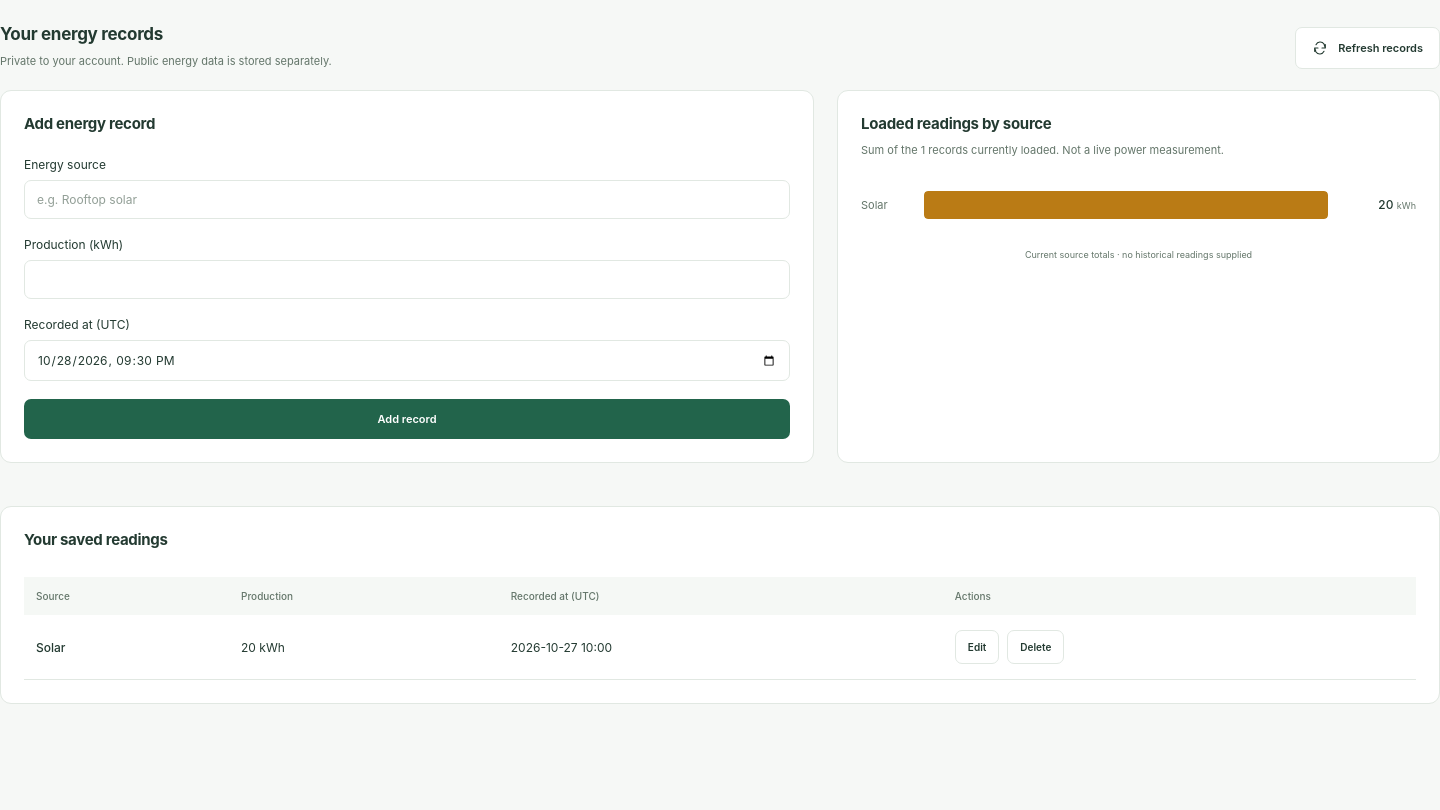
Test: private energy records › loads, creates, edits and deletes records with access tokens and no ownership fields
The width and height of the screenshot is (1440, 810).
Expected: the column heading "Solar" is shown, [24, 615, 229, 680]
Type "Wind" into the field labelled "Energy source" at [407, 200], box [24, 180, 790, 219]
Type "42" into the number field labelled "Production (kWh)" at [407, 280], box [24, 260, 790, 299]
Replace the text in the field labelled "Recorded at (UTC)" with "2026-10-27T10:00" at [407, 361], box [24, 340, 790, 381]
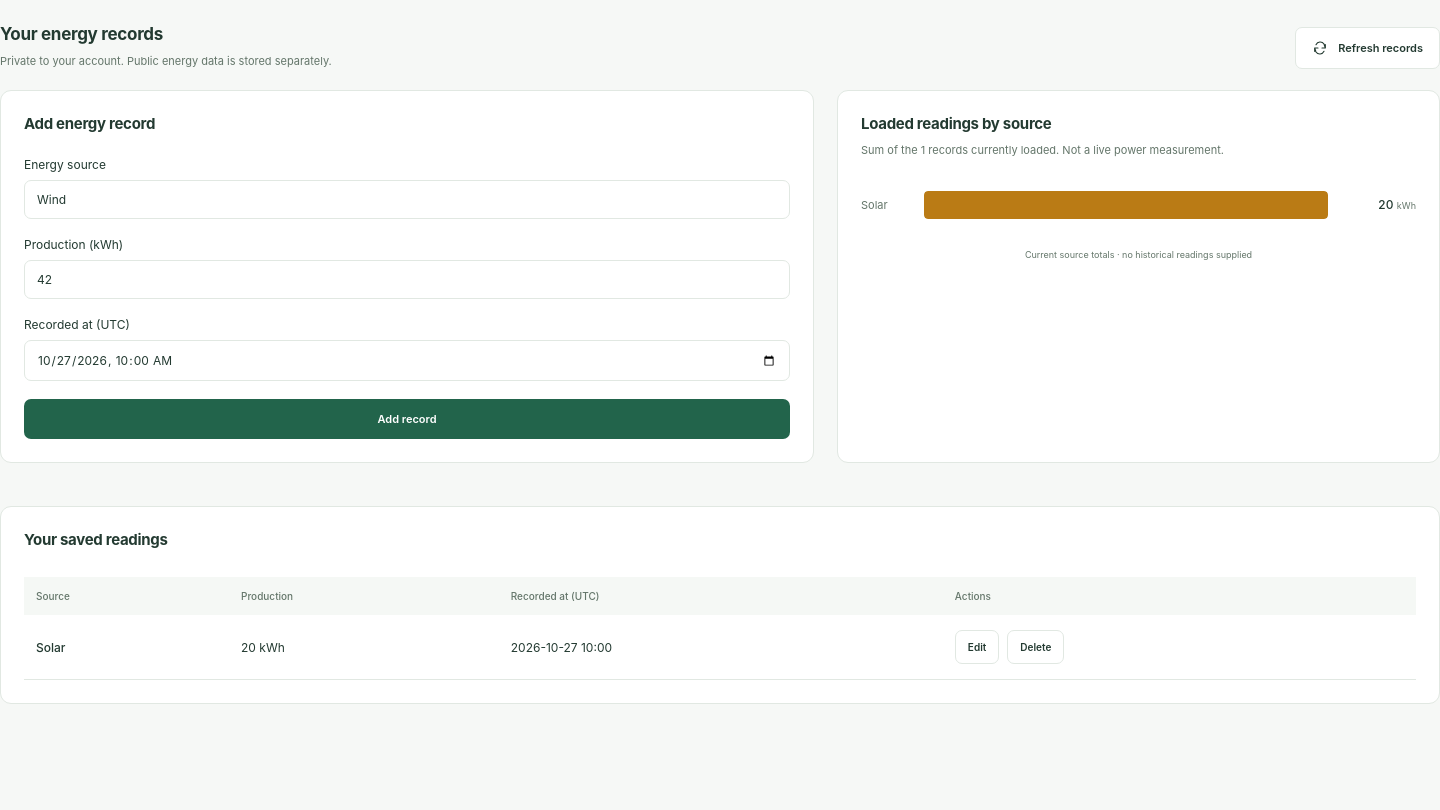
Click the button "Add record" at [407, 419], box [24, 399, 790, 439]
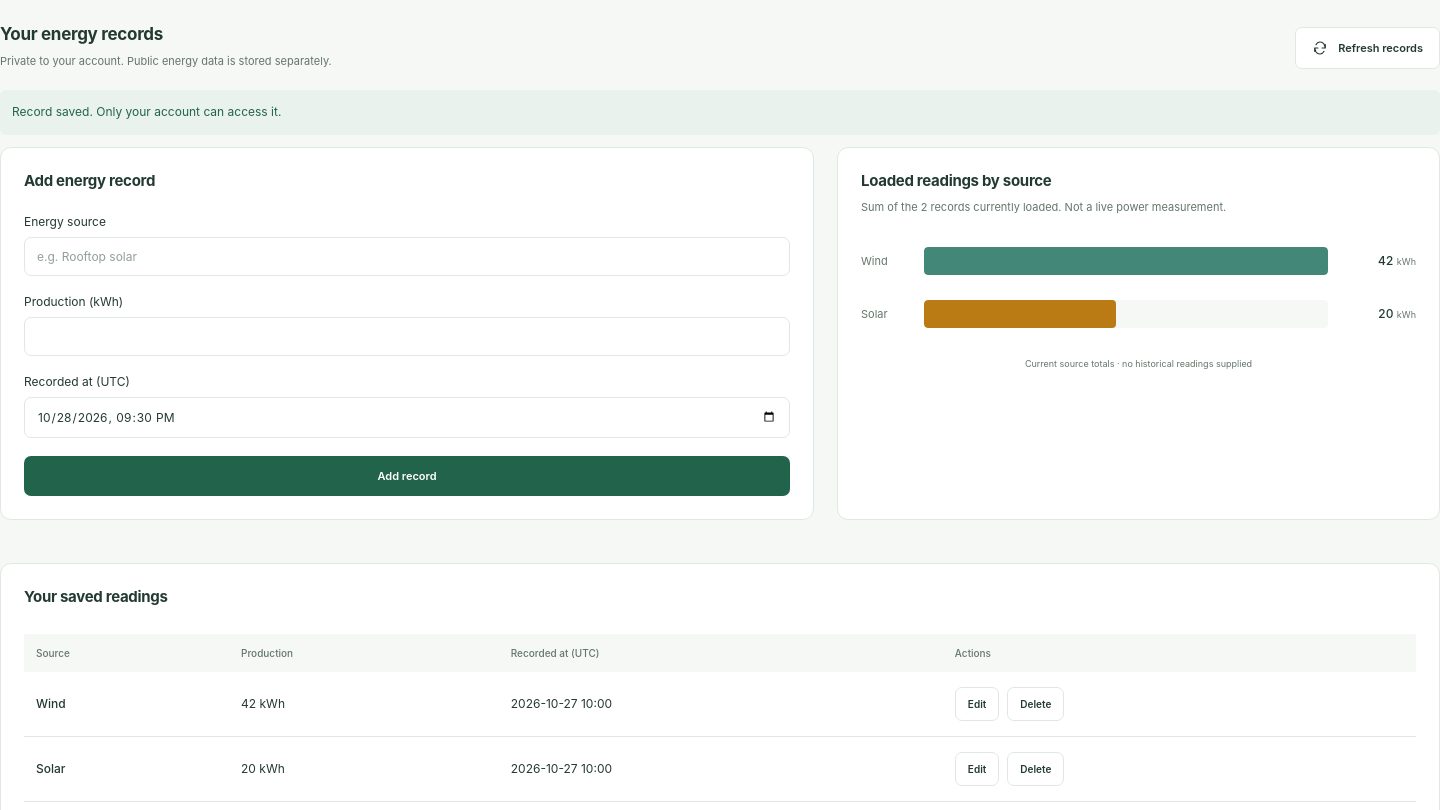
Result: the column heading "Wind" is shown at [24, 672, 229, 736]
Click the button with aria-label "Edit Wind record" at [977, 704], box [955, 687, 999, 721]
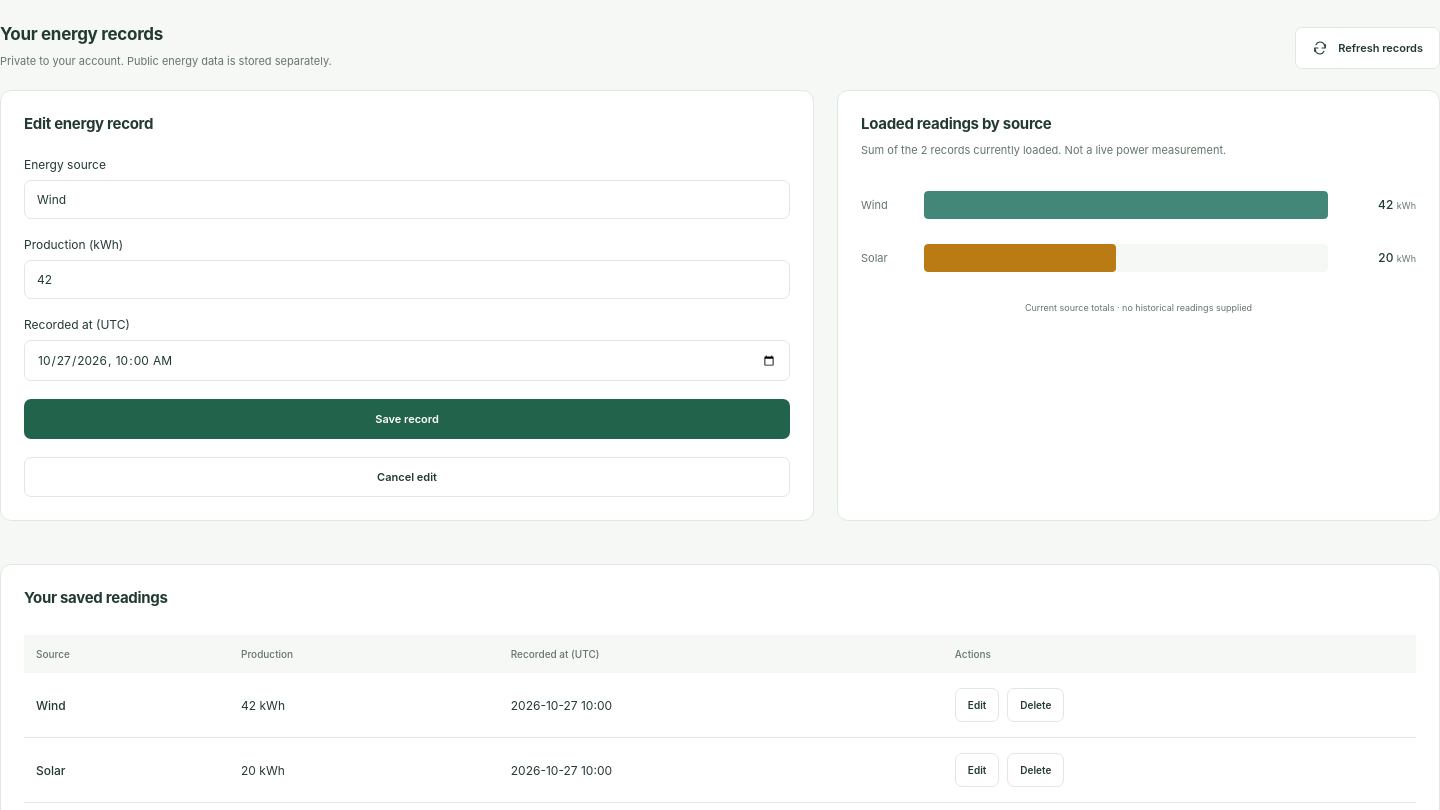
Replace the text in the number field labelled "Production (kWh)" with "12" at [407, 280], box [24, 260, 790, 299]
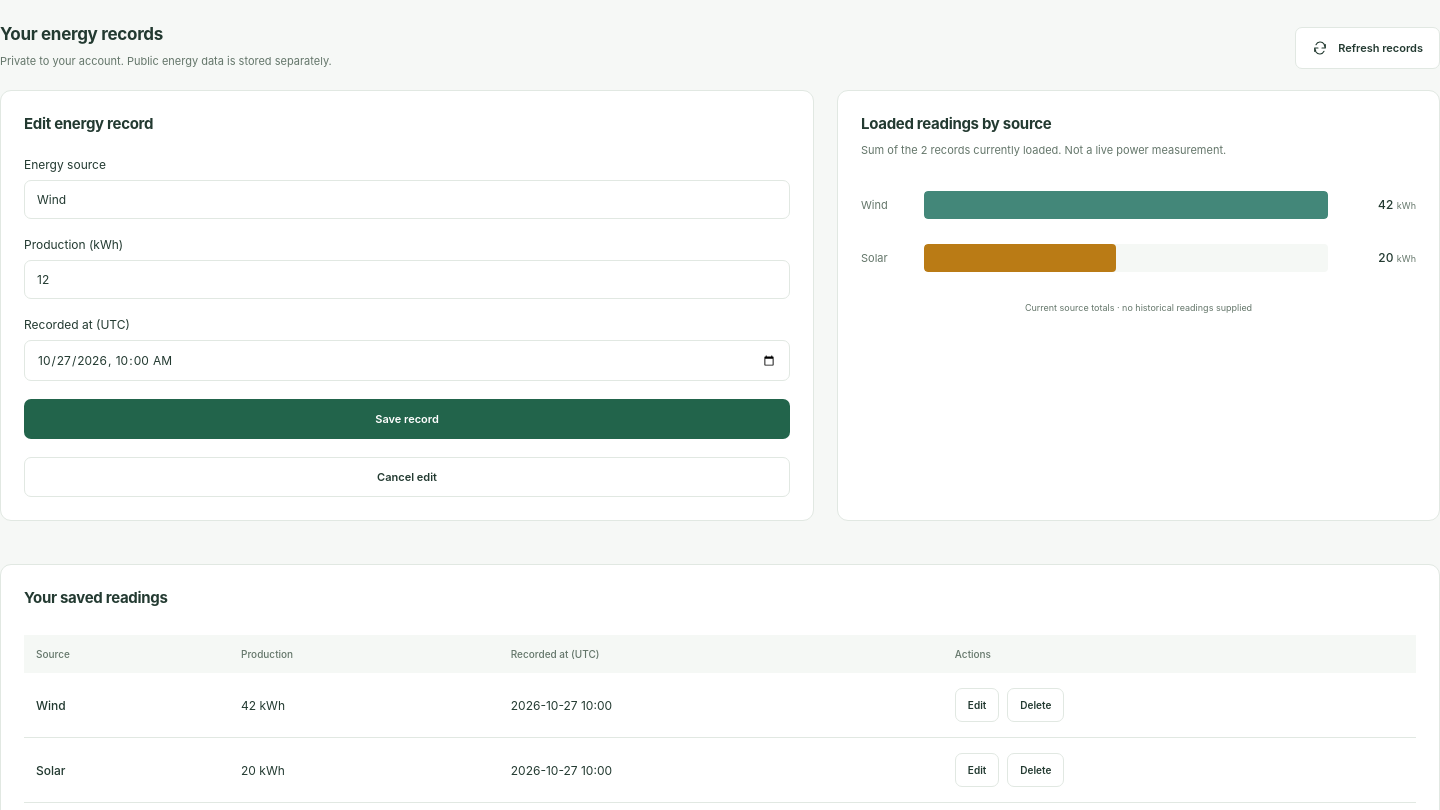
Click the button "Save record" at [407, 419], box [24, 399, 790, 439]
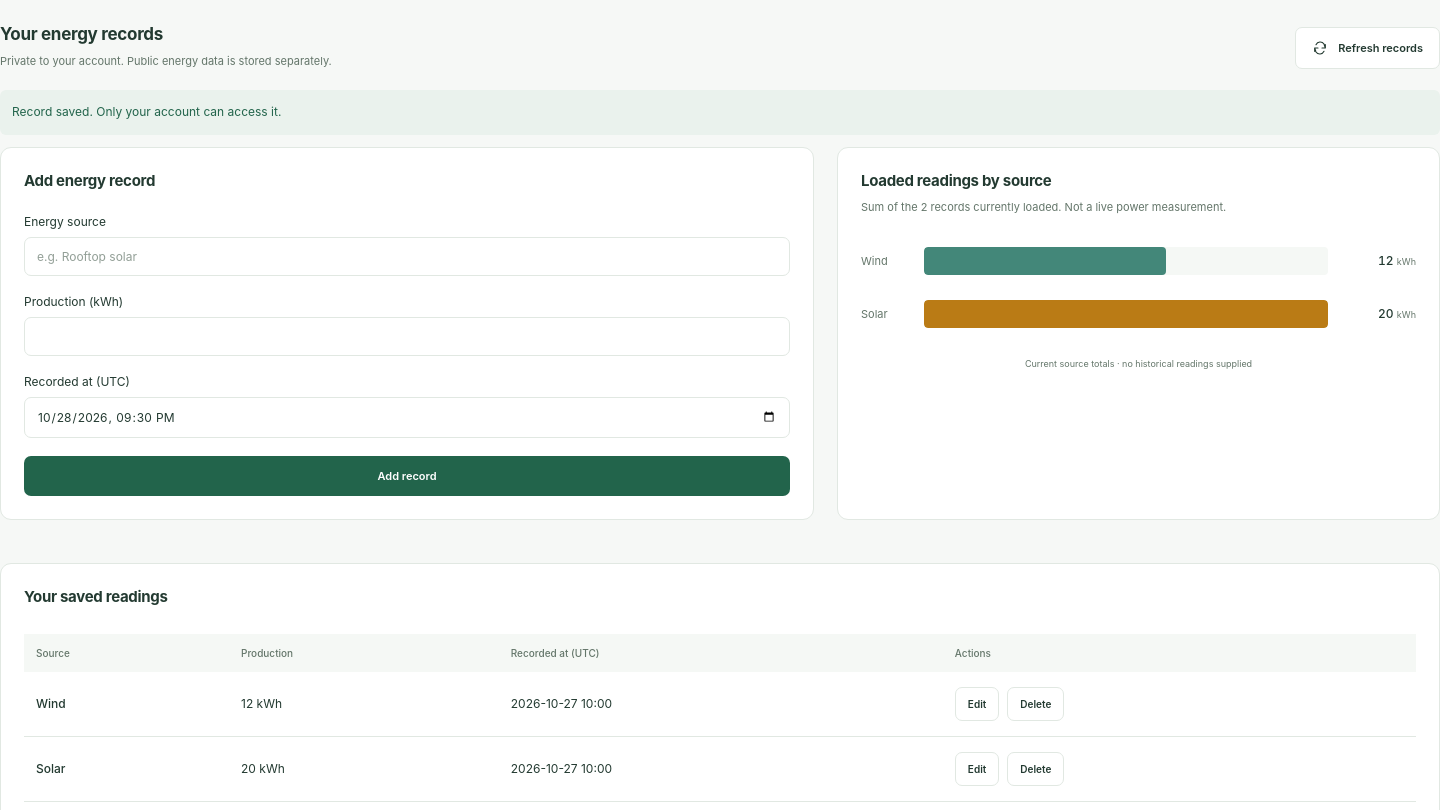
Result: the cell "12 kWh" is shown at [229, 672, 499, 736]
Click the button with aria-label "Delete Wind record" at [1036, 704], box [1007, 687, 1064, 721]
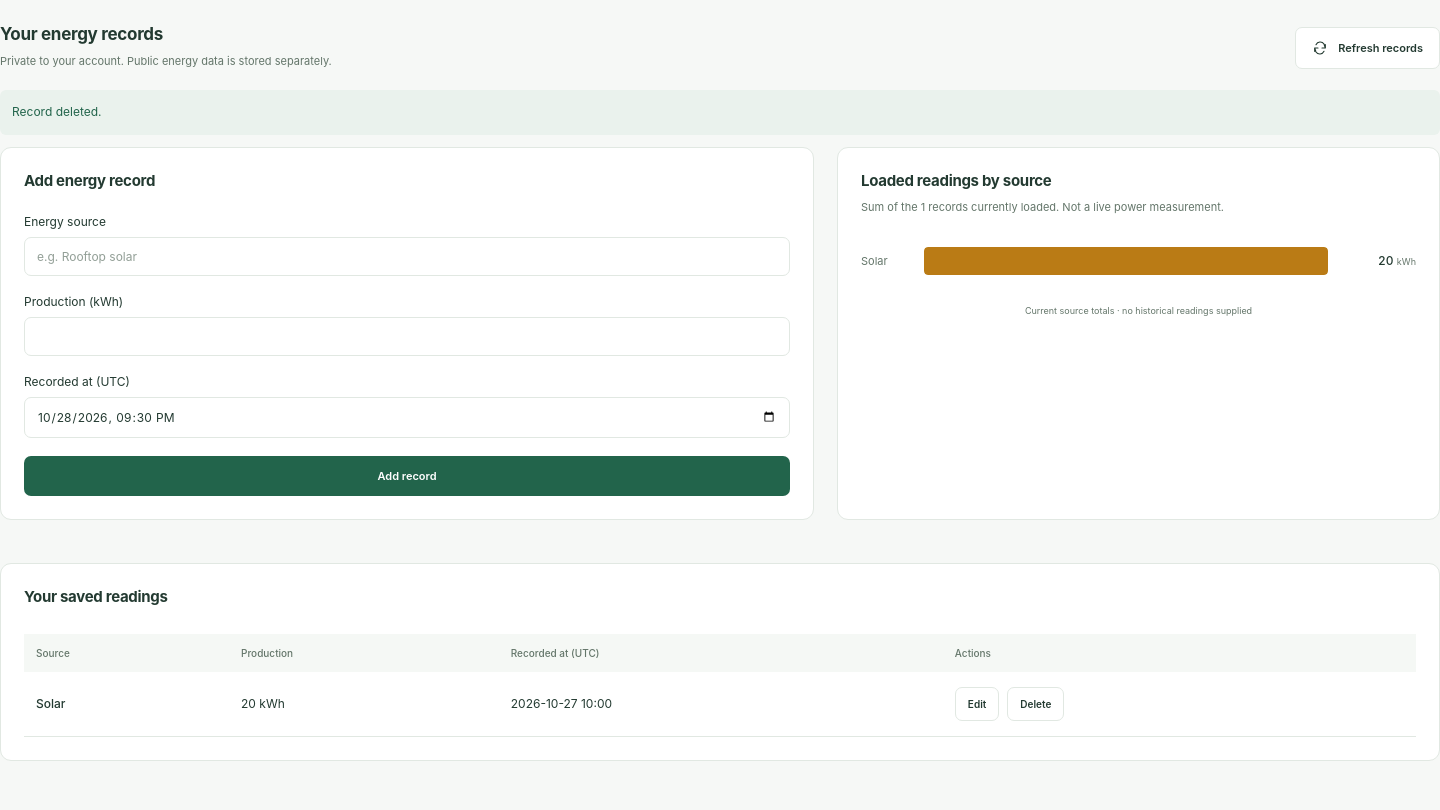
Result: the text "Wind" is gone
